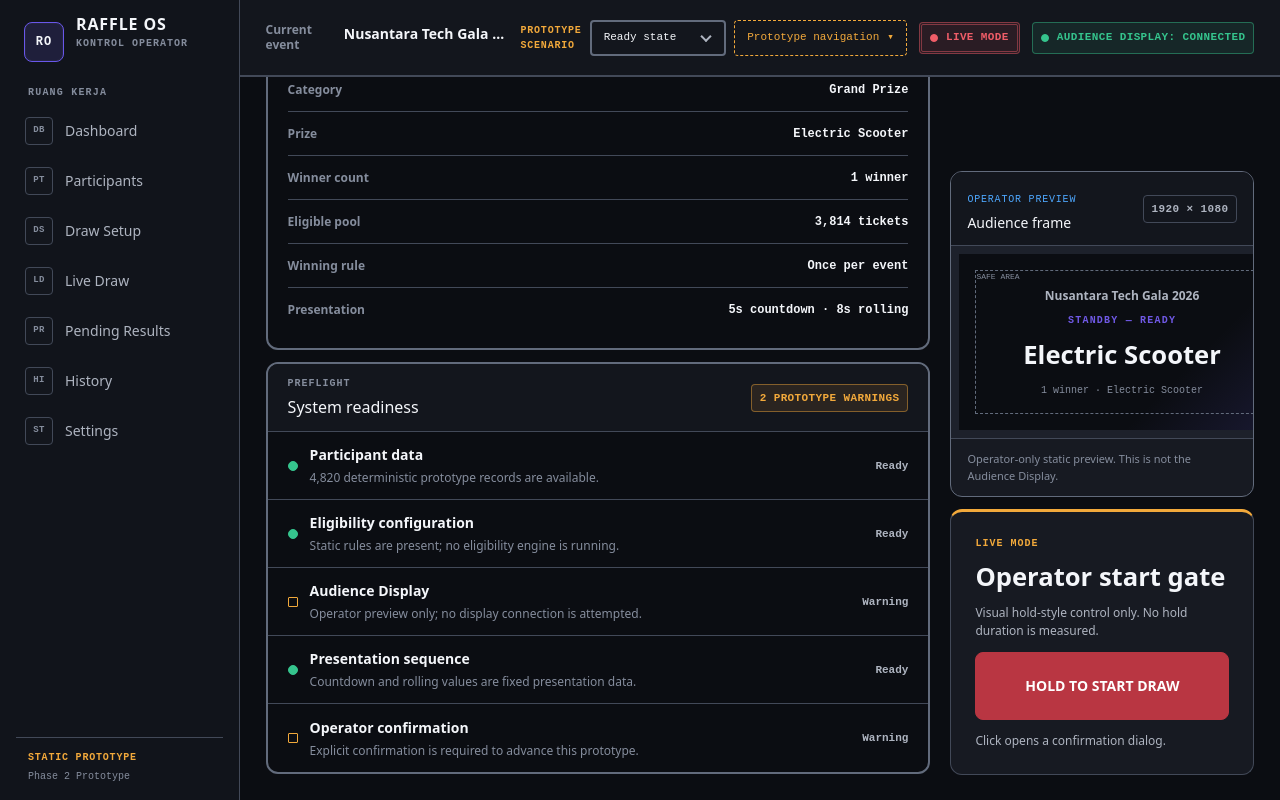
Live Draw static prototype › routes confirmation to the deterministic countdown state
(page scrolled)
Click the button "Hold to start draw" at (1102, 686), box [975,652,1229,720]
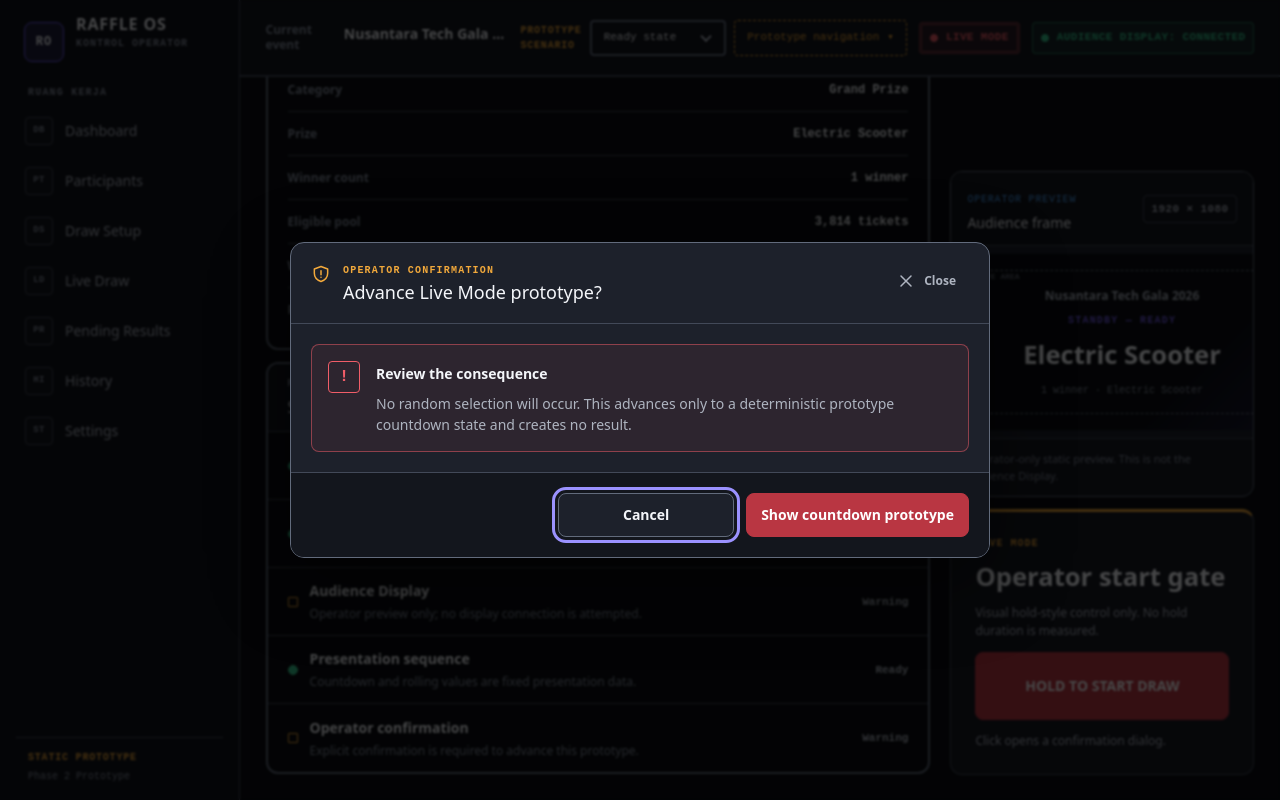
Click the button "Show countdown prototype" at (858, 515), box [746,493,969,537]
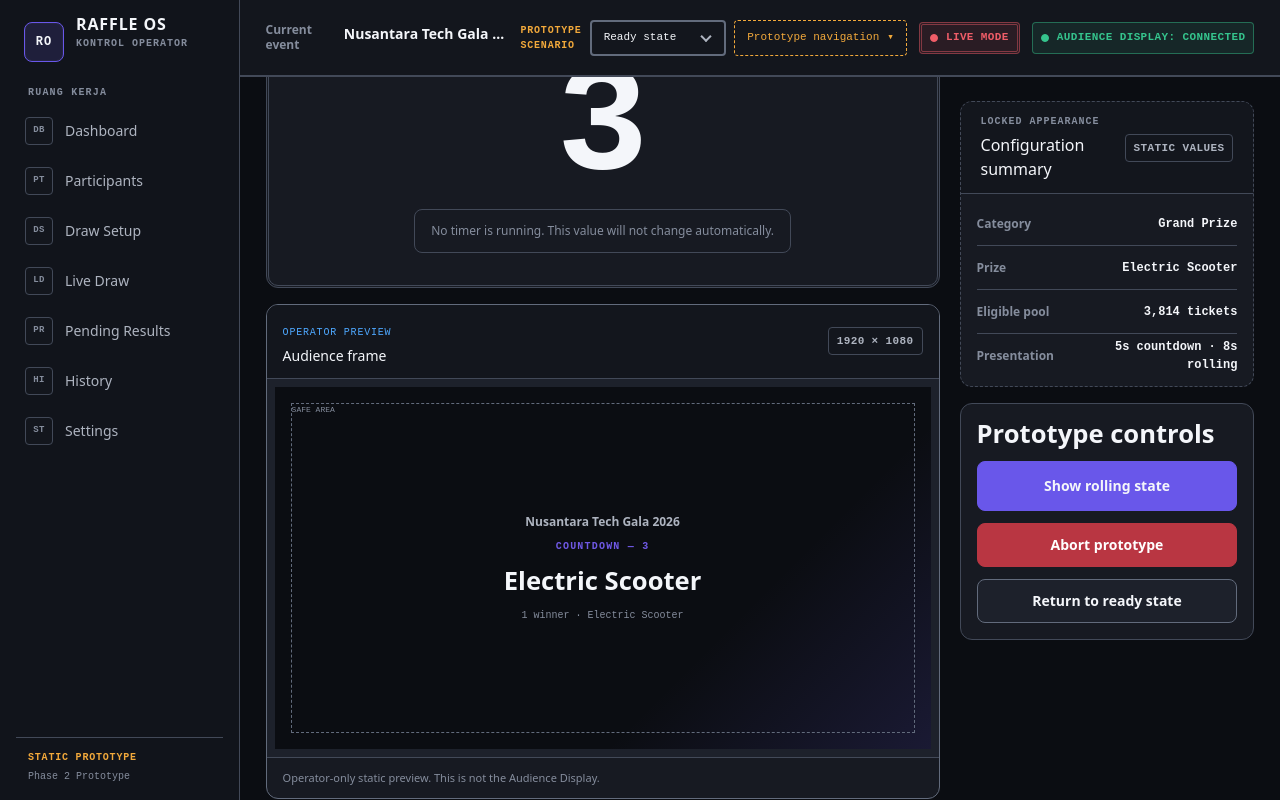
Now the text named "Static countdown value 3" reads "3", box [556,76,649,214]
